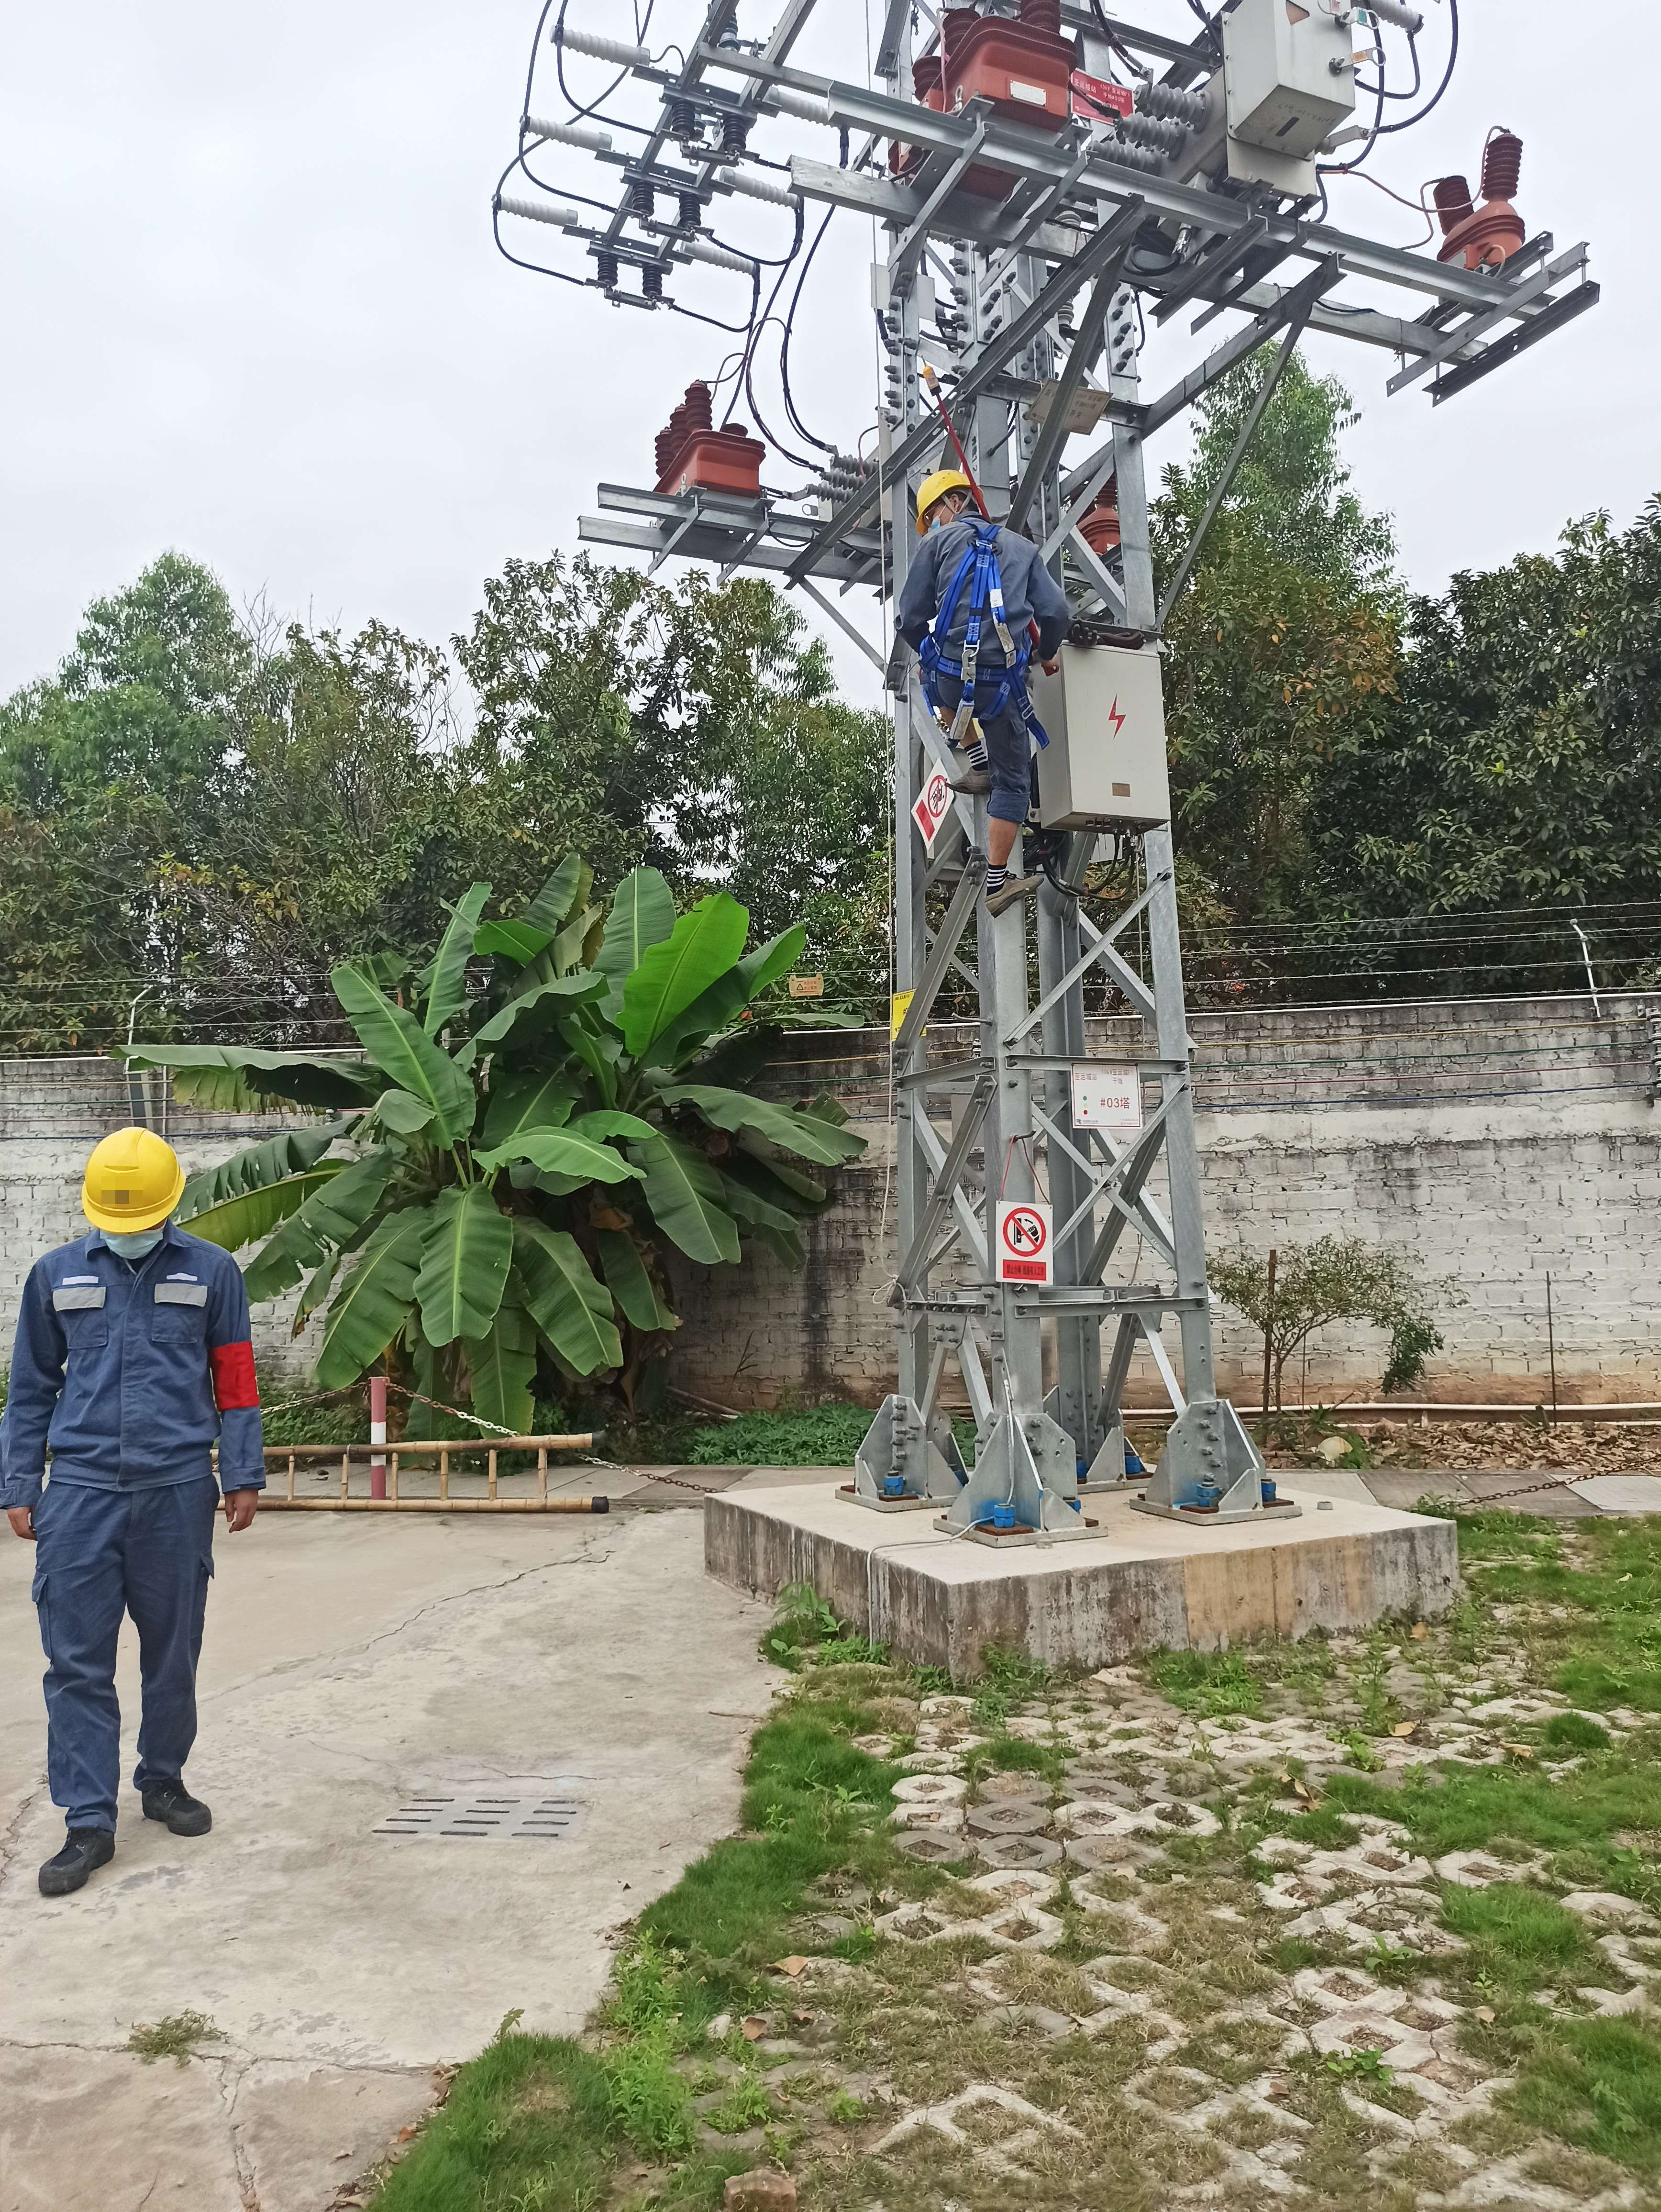downsuit: (24, 1504, 216, 1816), (932, 673, 1040, 827)
upsuit: (7, 1226, 263, 1485), (893, 516, 1068, 665)
wrongbottom: (981, 785, 1026, 877)
